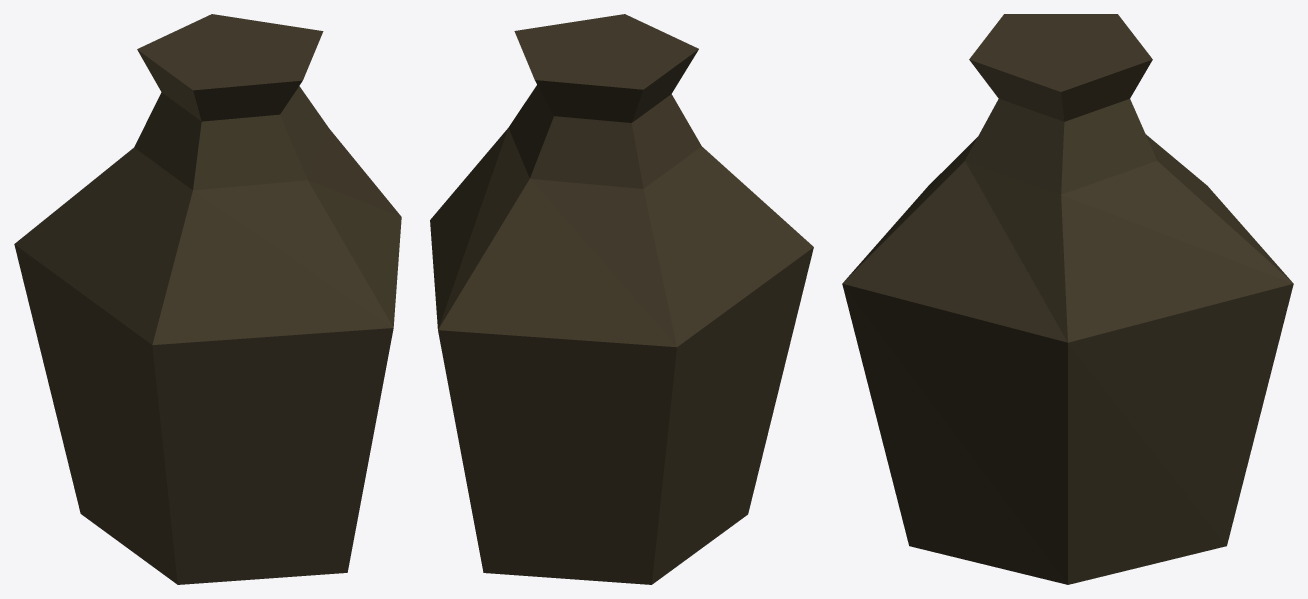
File: ITMI_STUFF_AMPHORE_01.OBJ
3 views of the same model, side by side, from view 1: azimuth 30°, elevation 25°; view 2: azimuth 150°, elevation 25°; view 3: azimuth 270°, elevation 25° (orthographic).
Visible parts, largest first — view 1: ITMI_STUFF_AMPHORE_01; view 2: ITMI_STUFF_AMPHORE_01; view 3: ITMI_STUFF_AMPHORE_01.
Boxes of the visible parts, x1=… form: ITMI_STUFF_AMPHORE_01: x1=14, y1=14, x2=401, y2=584; ITMI_STUFF_AMPHORE_01: x1=430, y1=14, x2=813, y2=584; ITMI_STUFF_AMPHORE_01: x1=842, y1=14, x2=1293, y2=584.
Bounding box in the file's own units: 0.1273 × 0.1812 × 0.1548.
